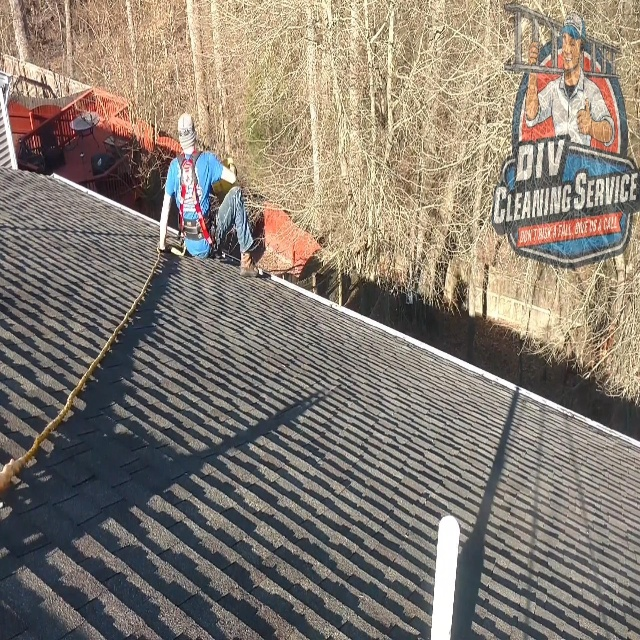Arnes_seguridad: (173, 146, 217, 260)
